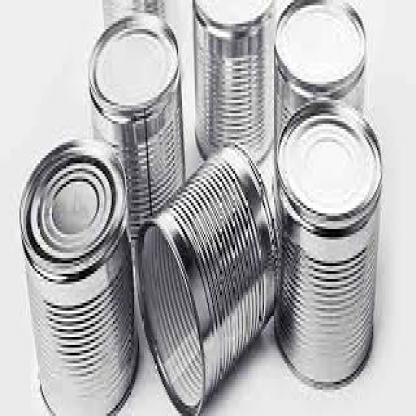METAL: (131, 140, 277, 414), (17, 137, 138, 413), (273, 95, 382, 387), (88, 8, 184, 258), (192, 0, 276, 166), (272, 0, 368, 137)
